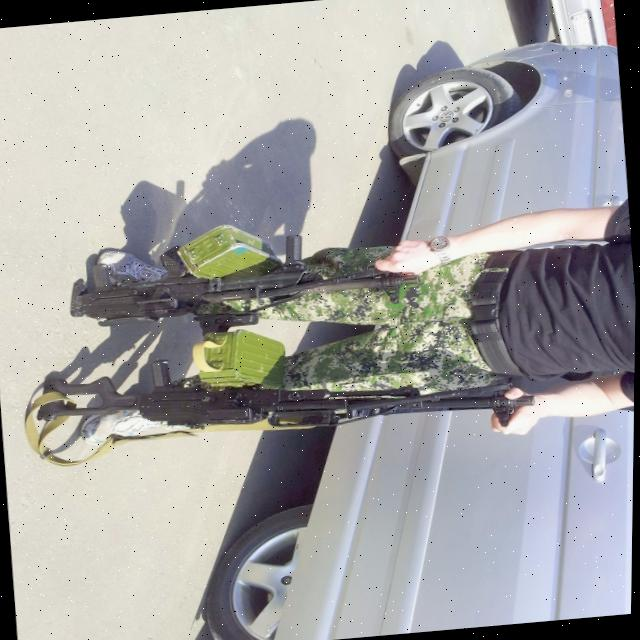firearm: (32, 302, 540, 468), (63, 222, 426, 348)
